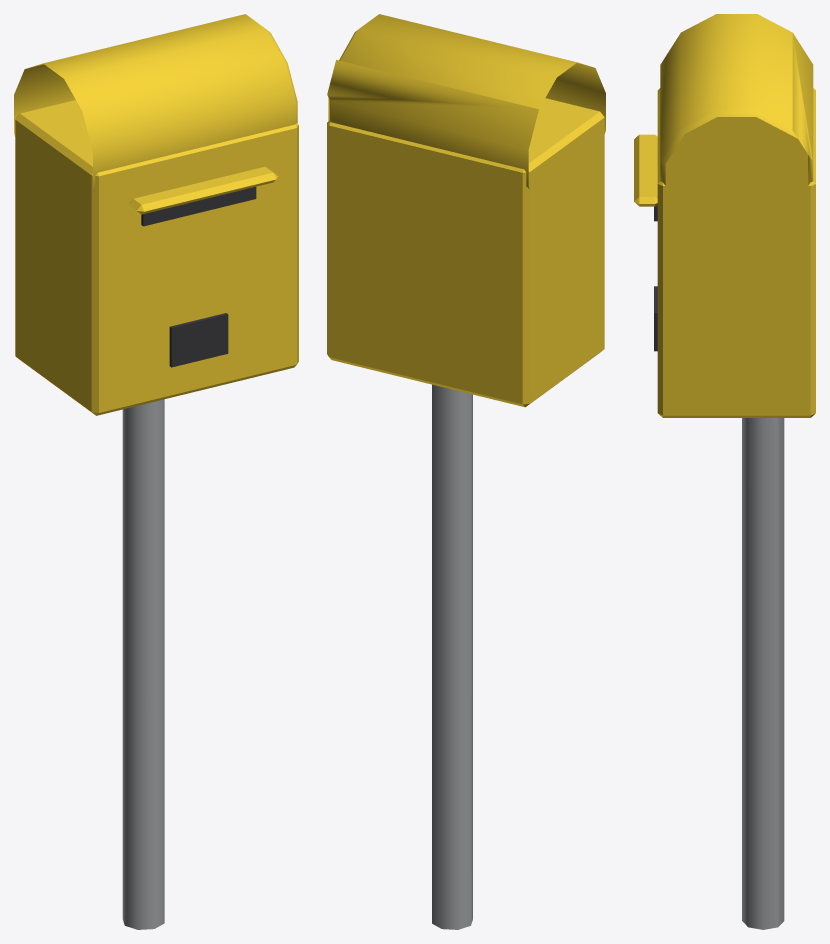
Rendered from post-box.glb.
3 renders of one model, left to right at view 1: azimuth 30°, elevation 25°; view 2: azimuth 150°, elevation 25°; view 3: azimuth 270°, elevation 25°, orthographic. The views are drawn at different scales.
Parts seen in each view (by area): view 1: post-box; view 2: post-box; view 3: post-box.
Part boxes in pixels (<box>): post-box: <box>14,14,298,929</box>; post-box: <box>327,14,605,929</box>; post-box: <box>634,14,815,929</box>.
Bounding box in the file's own units: 0.44 × 1.79 × 0.3449.
